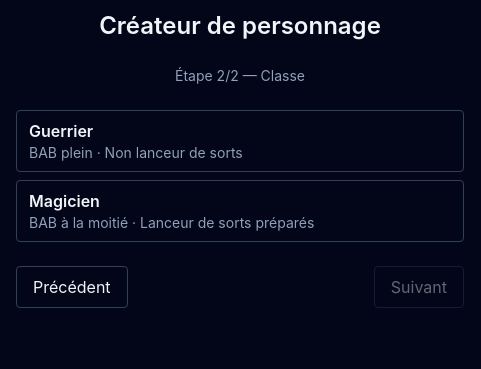
it: CharacterCreator › navigue vers l’étape Classe et affiche le message caractéristiques après sélection
expect the text "Étape 2/2 — Classe" is shown: met, box [175,66,305,86]
expect the button "Suivant" is disabled: met, box [374,266,464,308]
Click the text "Magicien" at {"x": 64, "y": 201}, box [29,191,100,211]
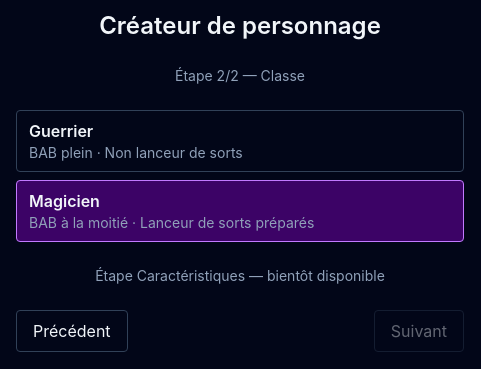
expect the button "Suivant" is disabled: met, box [374,310,464,352]
expect the text "Étape Caractéristiques — bientôt disponible" is shown: met, box [95,266,385,286]
